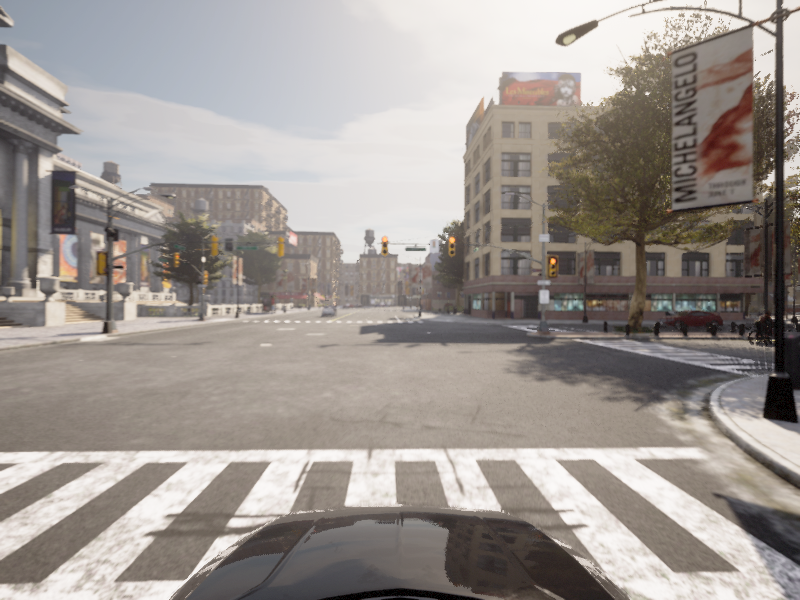vehicle: (652, 309, 727, 329), (743, 311, 786, 344)
